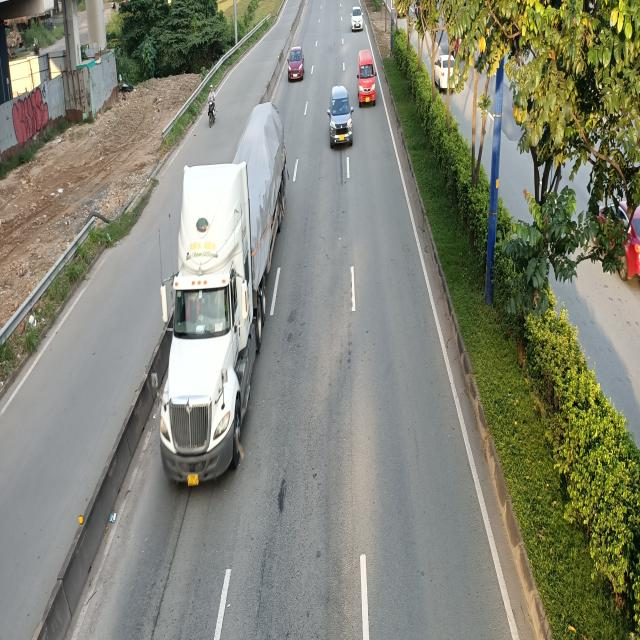car: (329, 84, 355, 148), (286, 46, 304, 81)
container: (155, 104, 291, 482)
van: (357, 49, 377, 106)
